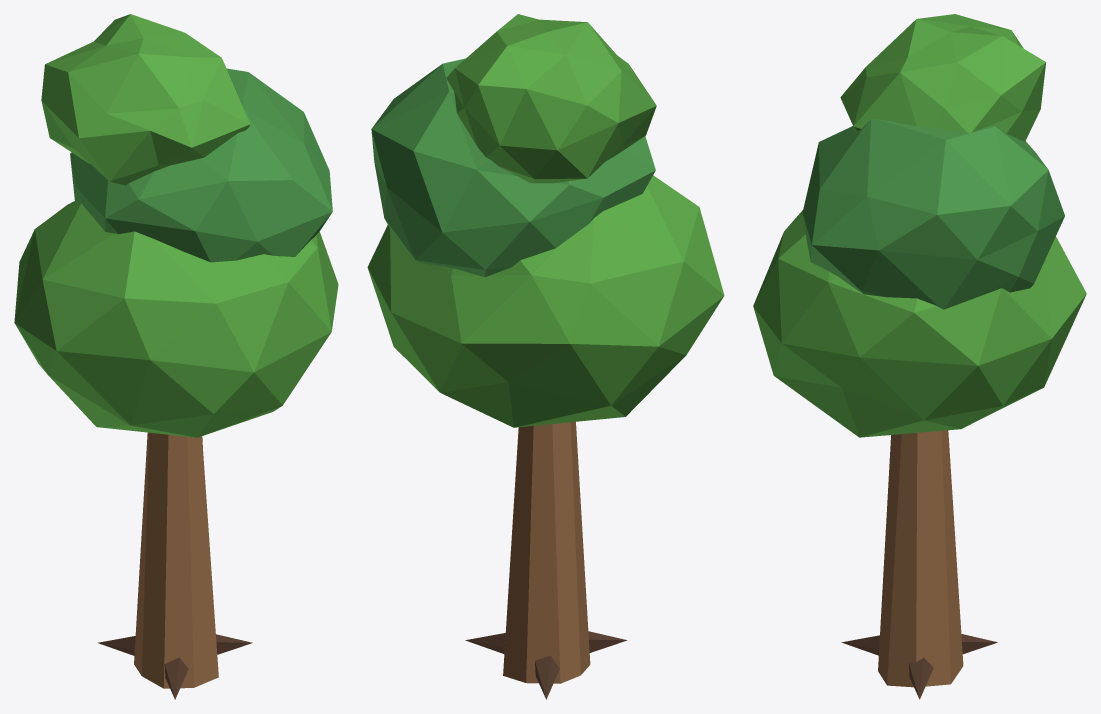
The model's file is tree.glb.
3 views of the same model, side by side, from view 1: azimuth 30°, elevation 25°; view 2: azimuth 150°, elevation 25°; view 3: azimuth 270°, elevation 25° (orthographic). The views are drawn at different scales.
Visible parts, largest first — view 1: tree; view 2: tree; view 3: tree.
Part boxes in pixels (x1,y1,x2,y2): tree: [14, 14, 338, 699]; tree: [367, 14, 724, 699]; tree: [753, 14, 1086, 699].
Bounding box in the file's own units: 7.29 × 15.29 × 7.29.
Materials: 1 (1 with a texture image).
